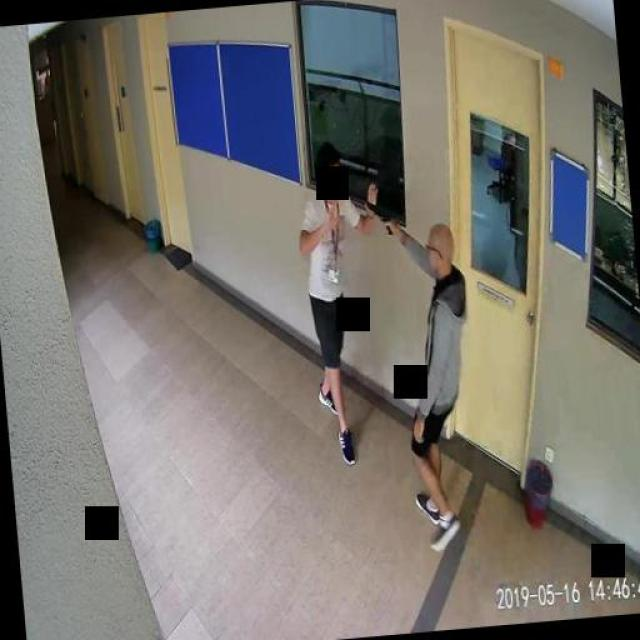gun: (365, 198, 393, 236)
